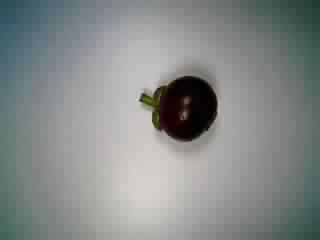mangosteen: (137, 67, 218, 150)
